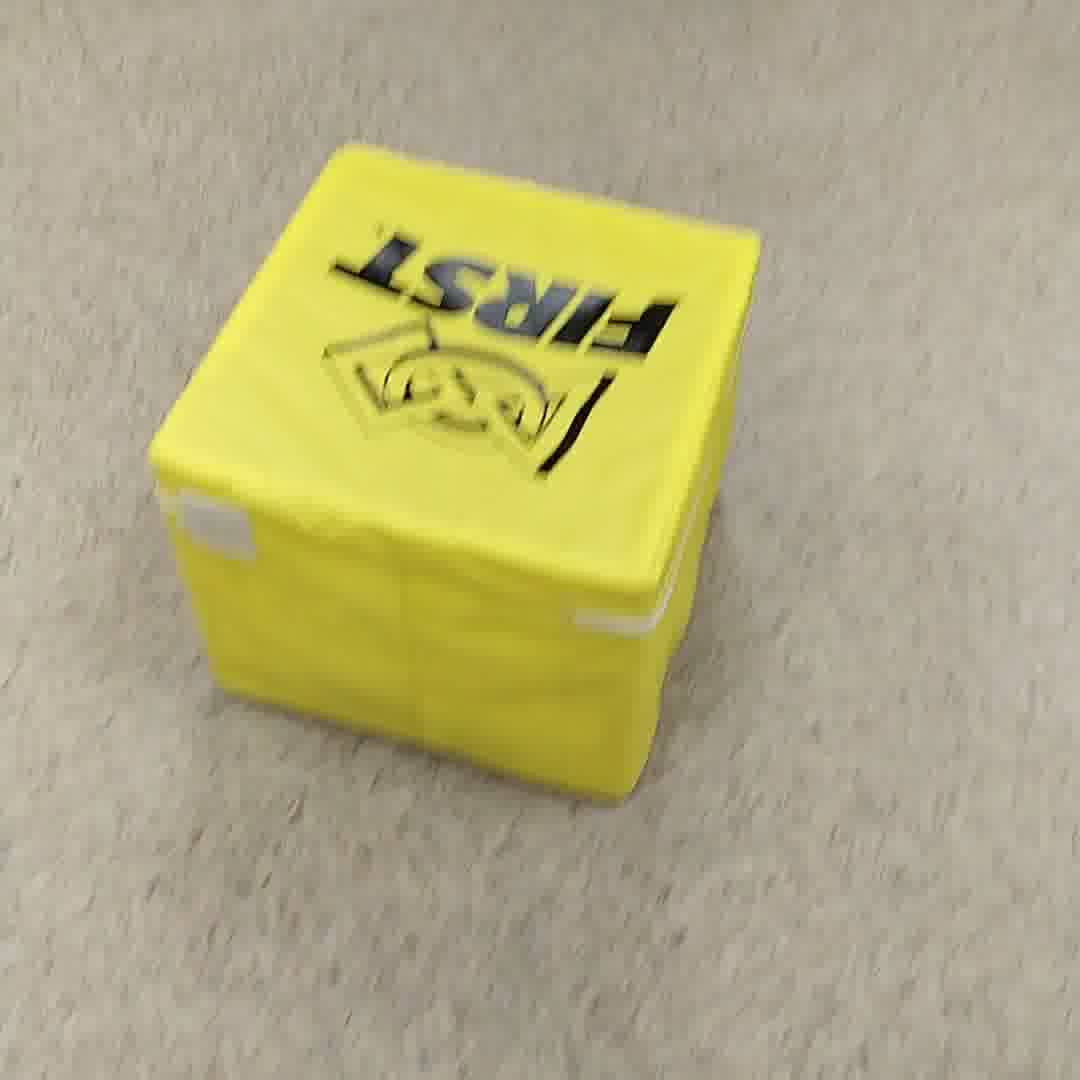box: (151, 132, 779, 820)
